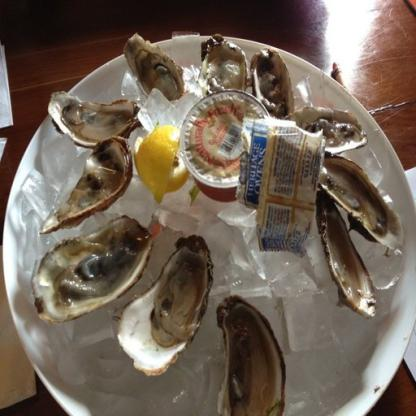oyster: (31, 214, 152, 325), (116, 245, 203, 377), (308, 146, 403, 252), (314, 194, 387, 325), (224, 302, 292, 416), (39, 140, 133, 221), (47, 90, 141, 142), (121, 42, 183, 107), (294, 103, 366, 155), (249, 51, 298, 127), (200, 36, 248, 100)
